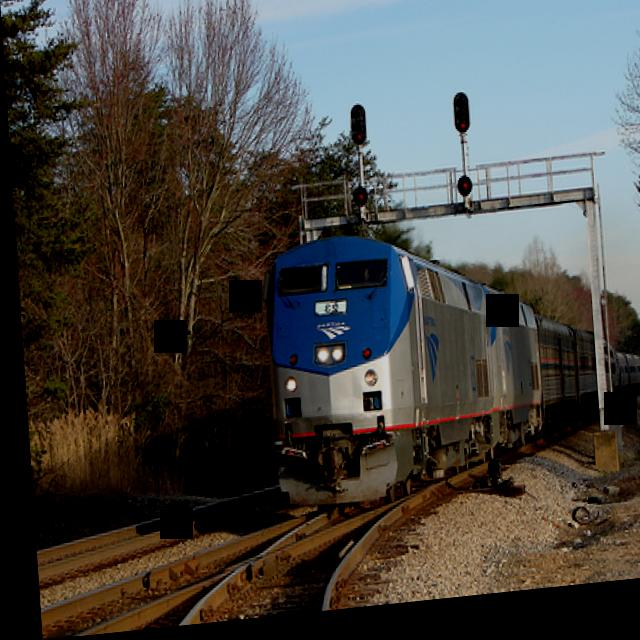locomotive: (248, 216, 542, 537)
